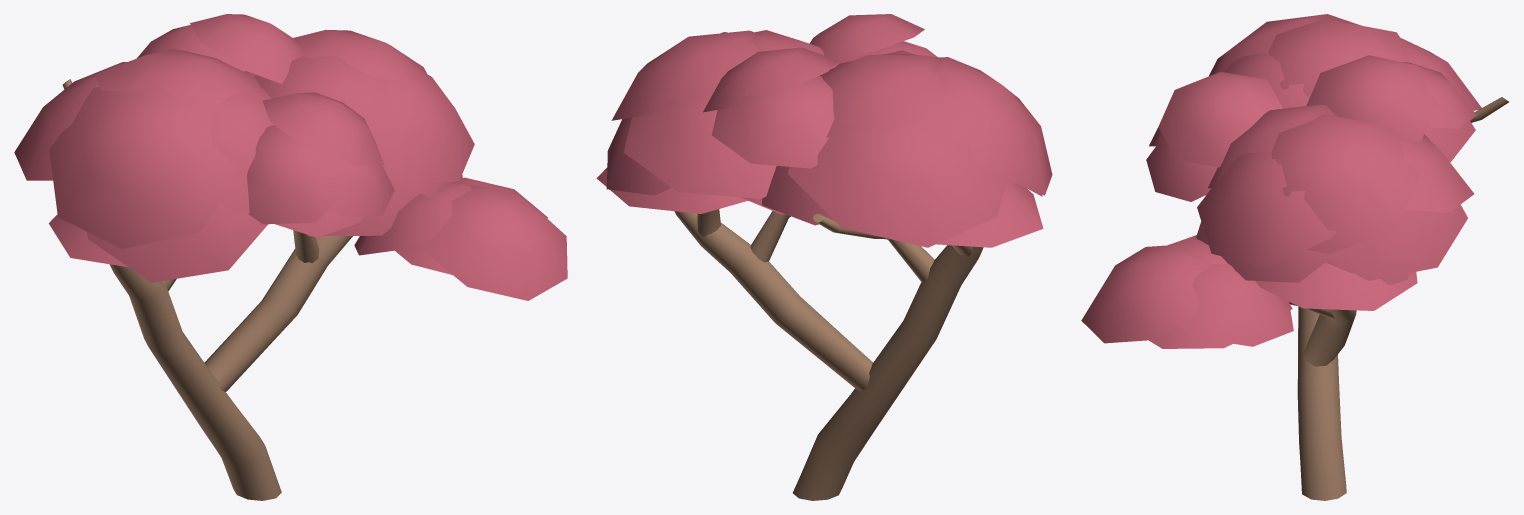
File: Tree_3.glb
3 views of the same model, side by side, from view 1: azimuth 30°, elevation 25°; view 2: azimuth 150°, elevation 25°; view 3: azimuth 270°, elevation 25° (orthographic). The views are drawn at different scales.
Parts seen in each view (by area): view 1: Tree_3; view 2: Tree_3; view 3: Tree_3.
Part boxes in pixels (x1,y1,x2,y2): Tree_3: (14, 14, 567, 500); Tree_3: (596, 14, 1052, 500); Tree_3: (1081, 14, 1508, 500).
Bounding box in the file's own units: 5.78 × 5.72 × 5.17.
